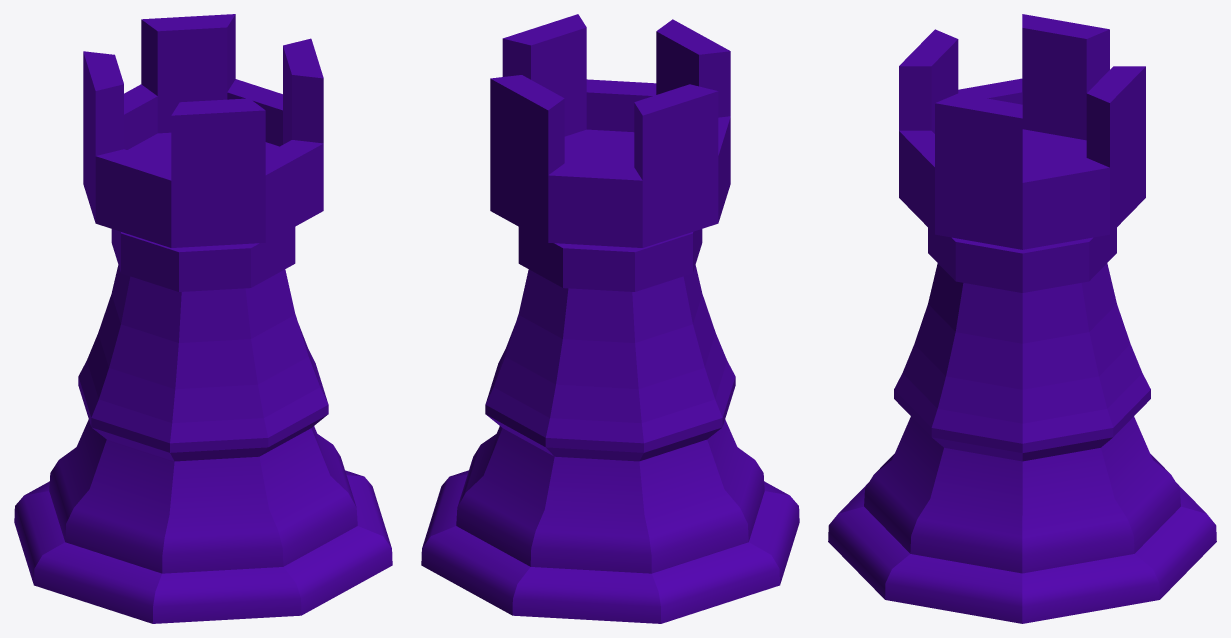
Rendered from torre.fbx.
The picture shows the model from 3 angles, left to right: view 1: azimuth 30°, elevation 25°; view 2: azimuth 150°, elevation 25°; view 3: azimuth 270°, elevation 25°; orthographic projection.
Visible parts, largest first — view 1: torre; view 2: torre; view 3: torre.
Boxes of the visible parts, x1=… form: torre: x1=14, y1=14, x2=392, y2=623; torre: x1=421, y1=14, x2=799, y2=623; torre: x1=828, y1=14, x2=1216, y2=623.
Bounding box in the file's own units: 2.13 × 2.88 × 2.13.
